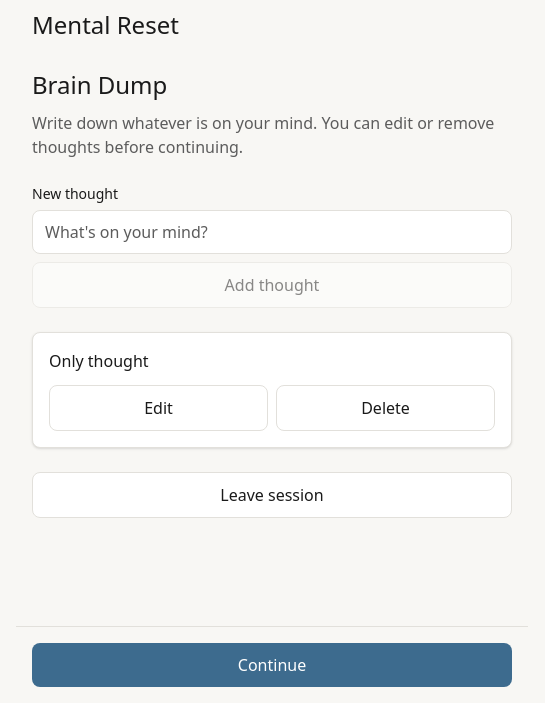
Test case: Brain Dump screen › disables Continue after deleting the last thought
Check: the button "Continue" is enabled, box [32,643,512,687]
Click the button with aria-label "delete thought" at [386, 408], box [276,385,495,431]
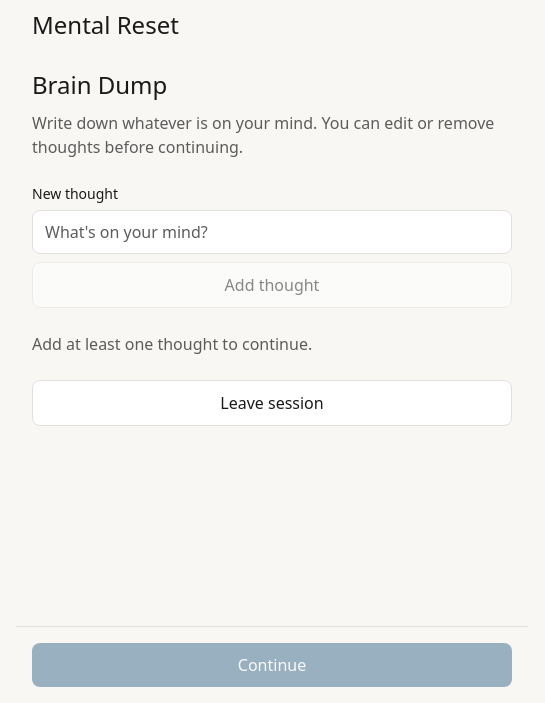
Check: the button "Continue" is disabled, box [32,643,512,687]
